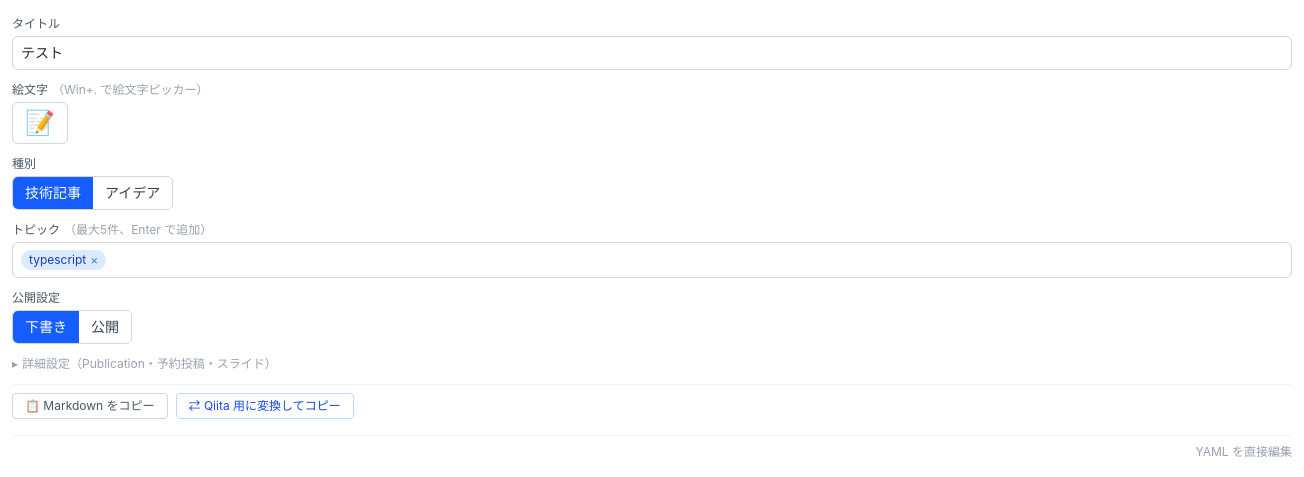
Test: PlatformFrontMatterForm › YAML 直接編集モード › "YAML を直接編集" クリックで textarea が表示される
Click the button "YAML を直接編集".
click(1244, 452)  # box [1196,444,1292,460]
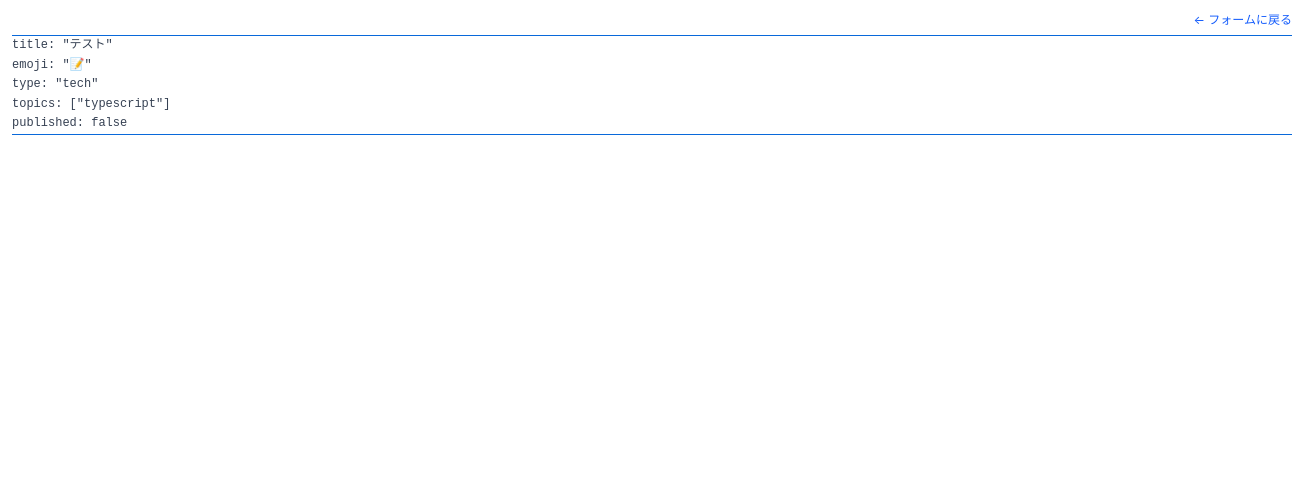
Now the text box named "YAML Front Matter を直接編集" is shown, box [12,36,1292,134]
